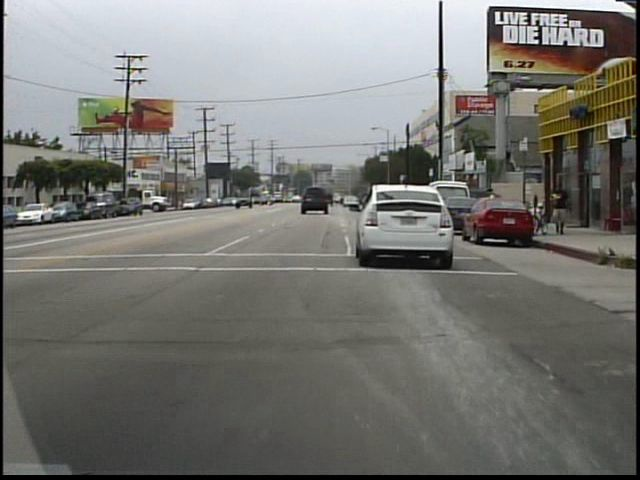person: (548, 175, 572, 240)
